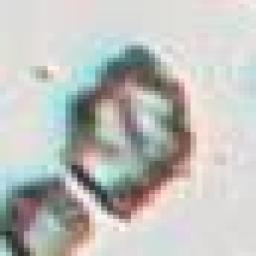crystals: (65, 39, 192, 229)
